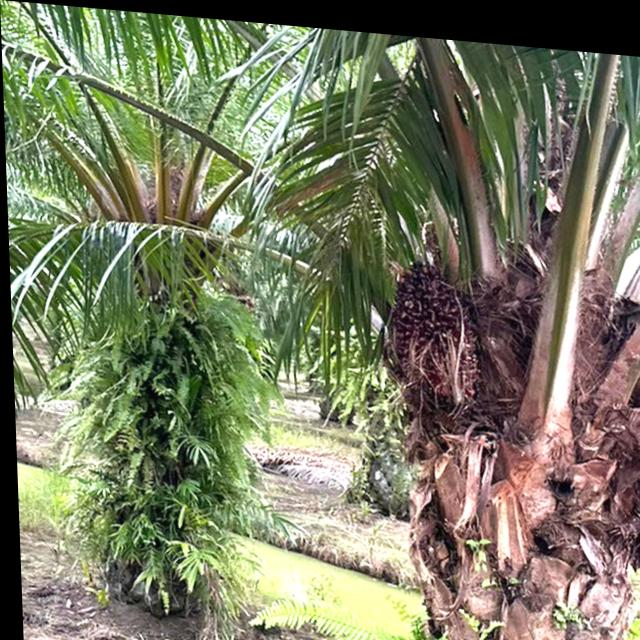ripe: (364, 237, 475, 421)
